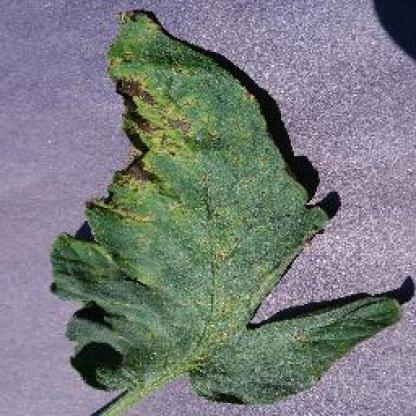bad leaf: (37, 8, 395, 414)
